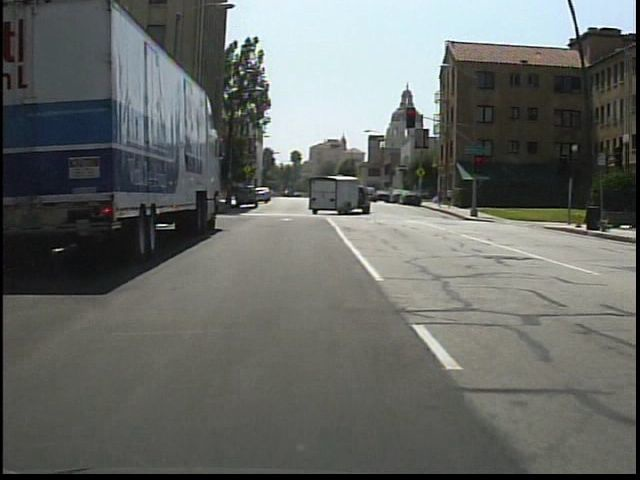person: (445, 184, 457, 210), (435, 184, 447, 209)
